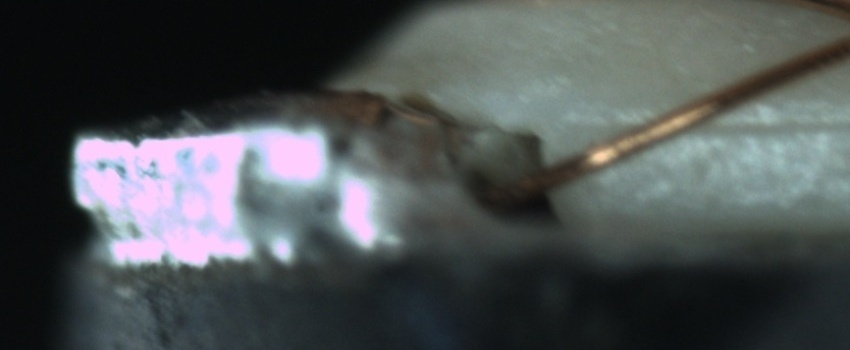DL: (607, 92, 850, 157)
